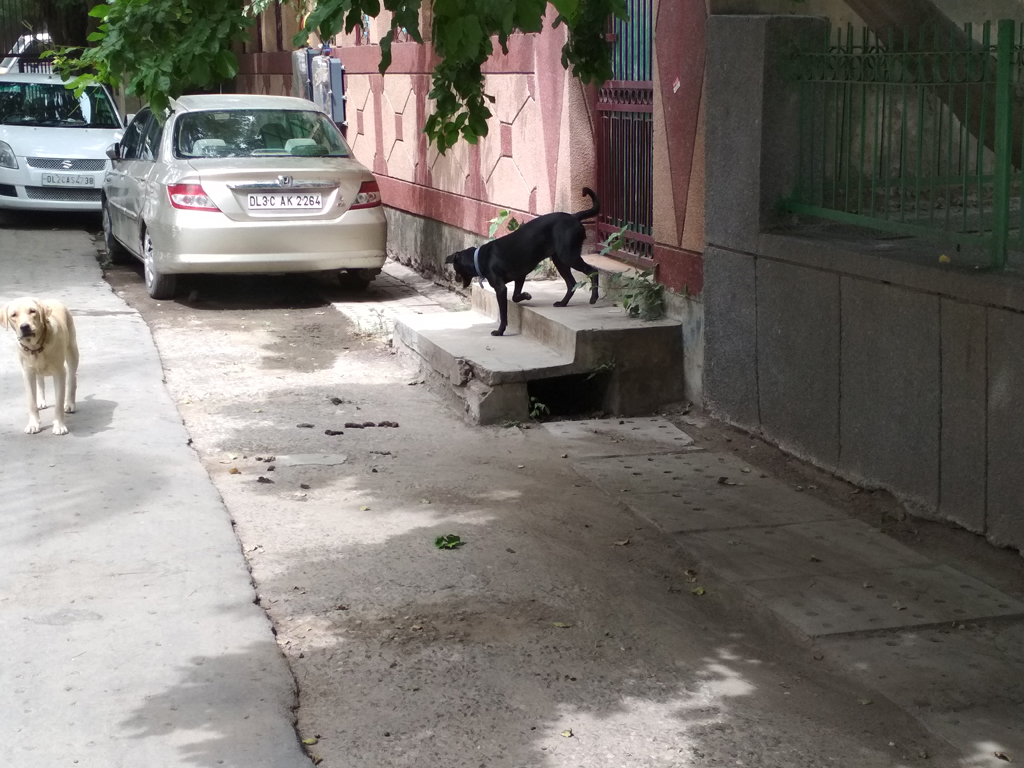dog: (445, 187, 599, 336), (1, 299, 79, 436)
